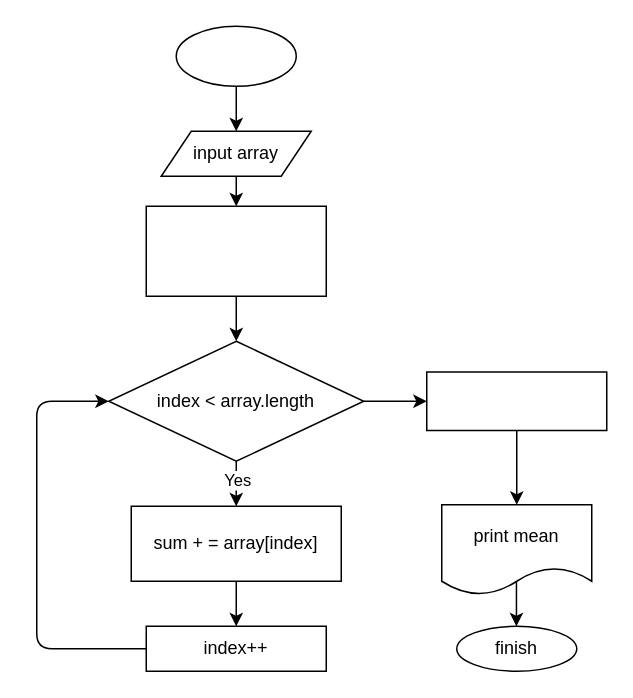
Image size: 633x698. Some labels were removed from this diagram. The centre of each missing label's shape, as x and y in pixels:
"index = 0 sum = 0 mean" belongs at point (235, 250).
"mean = sum / index" belongs at point (516, 400).
"start" belongs at point (235, 55).
